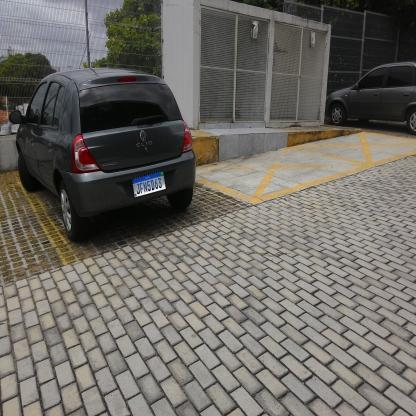PlacaM: (131, 170, 167, 198)
